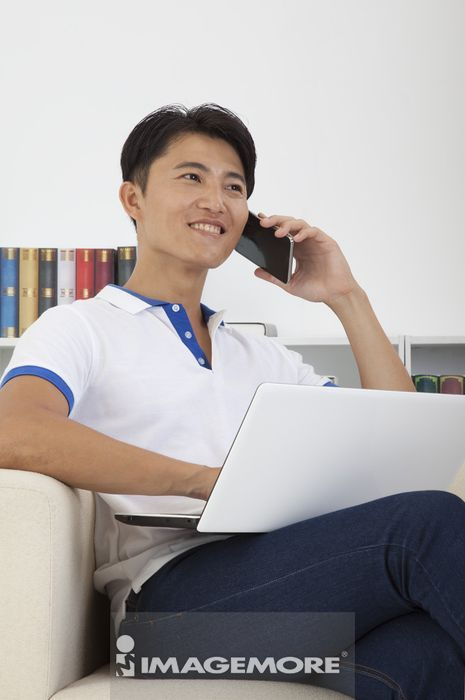phone: (237, 209, 294, 285)
talk: (165, 159, 355, 309)
